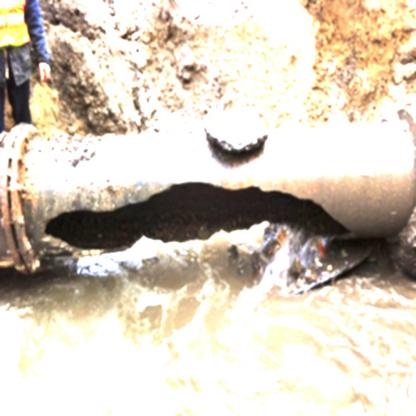burst: (40, 180, 358, 260)
